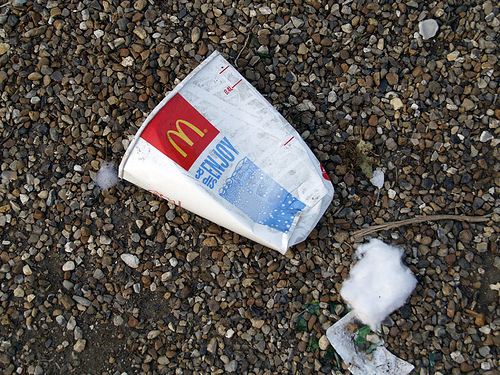litter: (116, 50, 337, 256), (342, 237, 420, 330), (323, 326, 418, 375)
